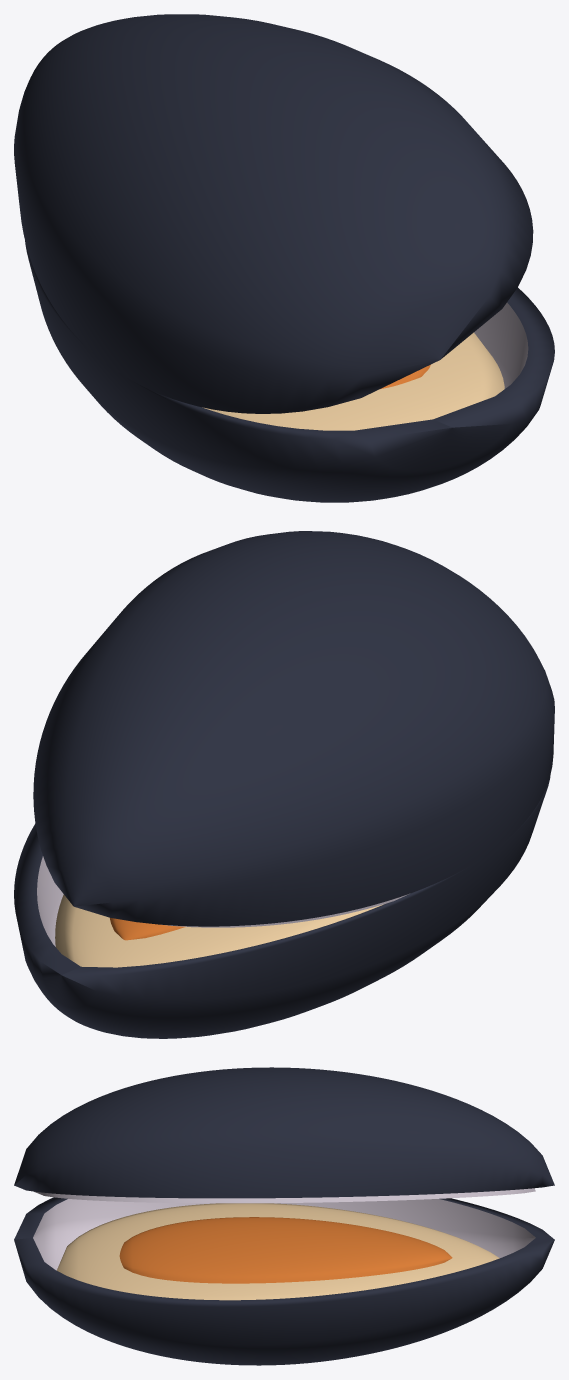
Rendered from musselopen.glb.
3 views of the same model, one above another, from view 1: azimuth 30°, elevation 25°; view 2: azimuth 150°, elevation 25°; view 3: azimuth 270°, elevation 25° (orthographic). The views are drawn at different scales.
Parts seen in each view (by area): view 1: Shell_Top_Outer, Shell_Bottom_Outer, Mussel_Mantle, Shell_Bottom_Inner; view 2: Shell_Top_Outer, Shell_Bottom_Outer, Mussel_Mantle, Shell_Bottom_Inner, Mussel_Body; view 3: Shell_Top_Outer, Shell_Bottom_Outer, Mussel_Body, Mussel_Mantle, Shell_Bottom_Inner, Shell_Top_Inner.
Part boxes in pixels (bbox=[...]): Shell_Top_Outer: bbox=[14, 14, 533, 413]; Shell_Bottom_Outer: bbox=[25, 241, 554, 502]; Mussel_Mantle: bbox=[202, 332, 504, 430]; Shell_Bottom_Inner: bbox=[474, 302, 528, 388]; Shell_Top_Outer: bbox=[33, 531, 554, 926]; Shell_Bottom_Outer: bbox=[14, 776, 550, 1038]; Mussel_Mantle: bbox=[55, 894, 383, 967]; Shell_Bottom_Inner: bbox=[37, 856, 63, 946]; Mussel_Body: bbox=[110, 918, 185, 940]; Shell_Top_Outer: bbox=[14, 1067, 554, 1198]; Shell_Bottom_Outer: bbox=[14, 1197, 554, 1365]; Mussel_Body: bbox=[119, 1217, 452, 1283]; Mussel_Mantle: bbox=[57, 1203, 499, 1300]; Shell_Bottom_Inner: bbox=[33, 1199, 535, 1270]; Shell_Top_Inner: bbox=[34, 1188, 535, 1203].
Bounding box in the file's own units: 2.02 × 1.86 × 3.4.
